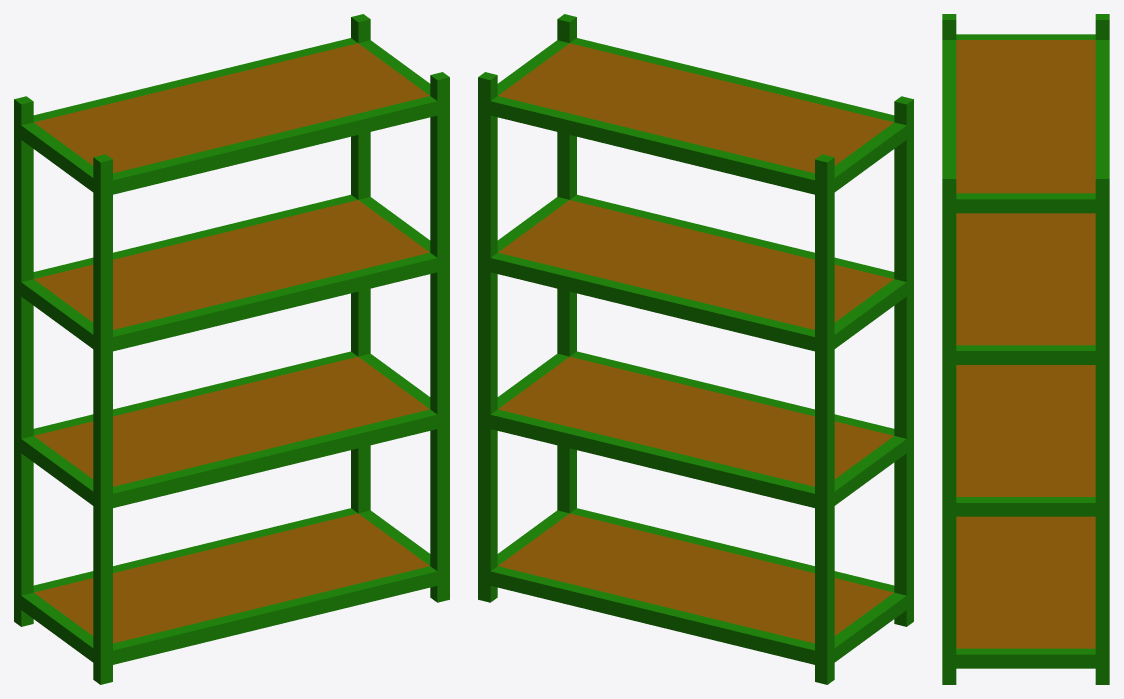
Rendered from SM_LSP_Shelf.fbx.
3 views of the same model, side by side, from view 1: azimuth 30°, elevation 25°; view 2: azimuth 150°, elevation 25°; view 3: azimuth 270°, elevation 25° (orthographic). The views are drawn at different scales.
Parts seen in each view (by area): view 1: SM_LSP_Shelf; view 2: SM_LSP_Shelf; view 3: SM_LSP_Shelf.
Boxes of the visible parts, x1,y1,x2,y2 form: SM_LSP_Shelf: (14,14,449,684); SM_LSP_Shelf: (478,14,913,684); SM_LSP_Shelf: (942,14,1109,684).
Size of what is drawn, in the model's own units: 140 by 60 by 200.
